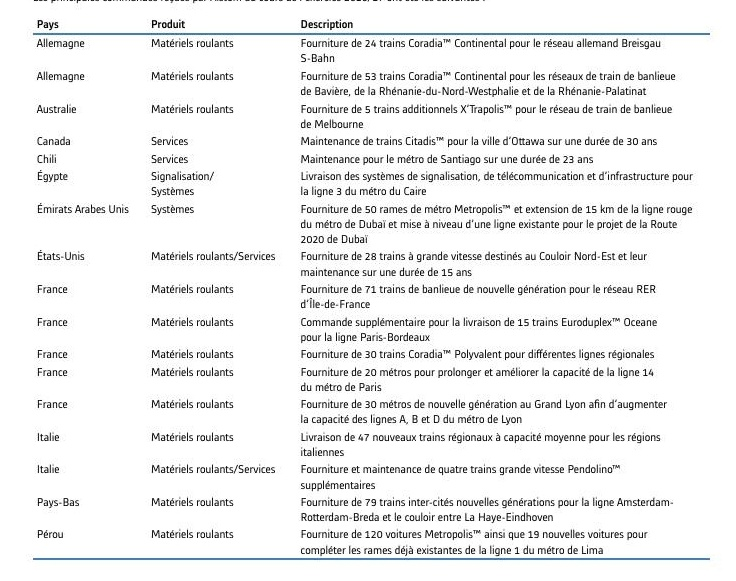table: (0, 0, 736, 581)
